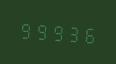nine: (18, 17, 33, 42), (34, 18, 49, 43), (50, 19, 65, 44)
six: (82, 21, 97, 46)
three: (66, 20, 81, 45)
